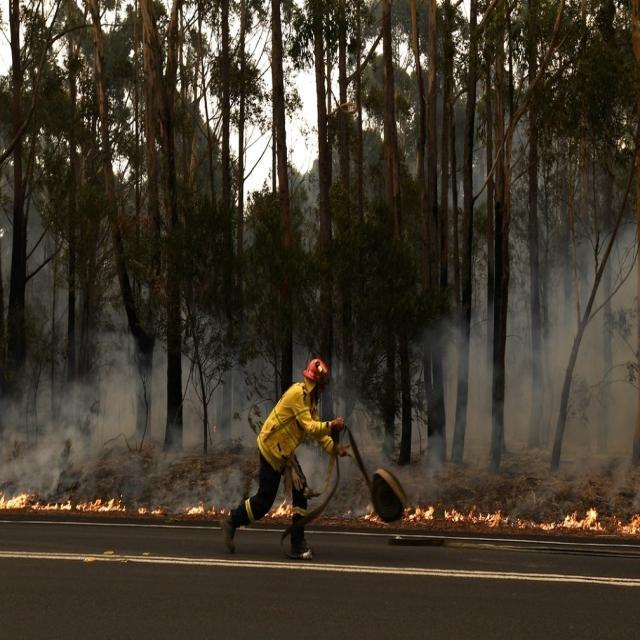Fire: (444, 503, 606, 532), (0, 491, 126, 514), (612, 511, 640, 535), (184, 500, 226, 515), (402, 505, 435, 523), (264, 497, 293, 517), (137, 504, 163, 516), (362, 510, 378, 522)
Smoke: (0, 126, 640, 518)
